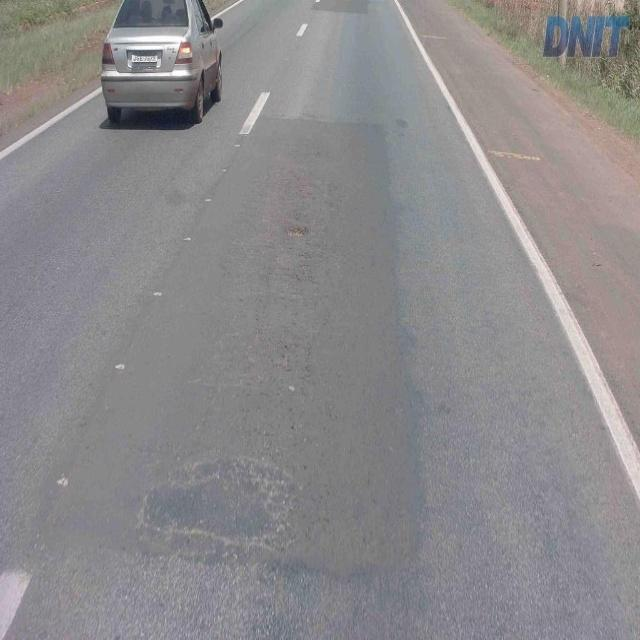pothole: (280, 218, 311, 245)
